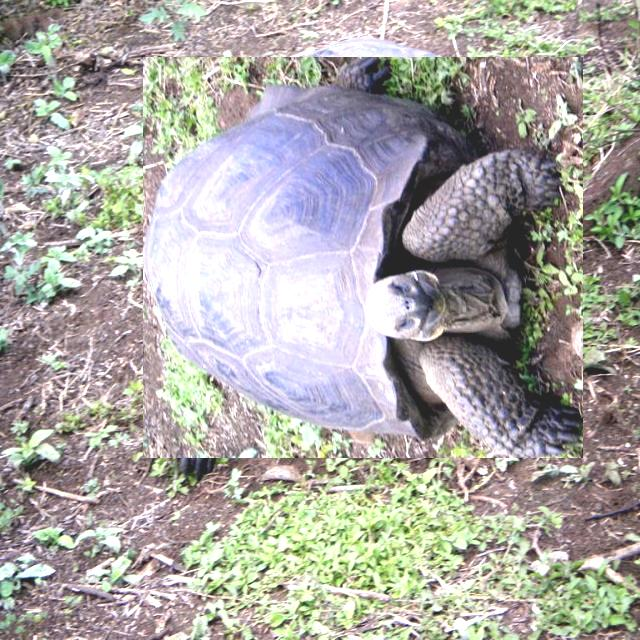Sea turtle: (153, 46, 574, 468)
